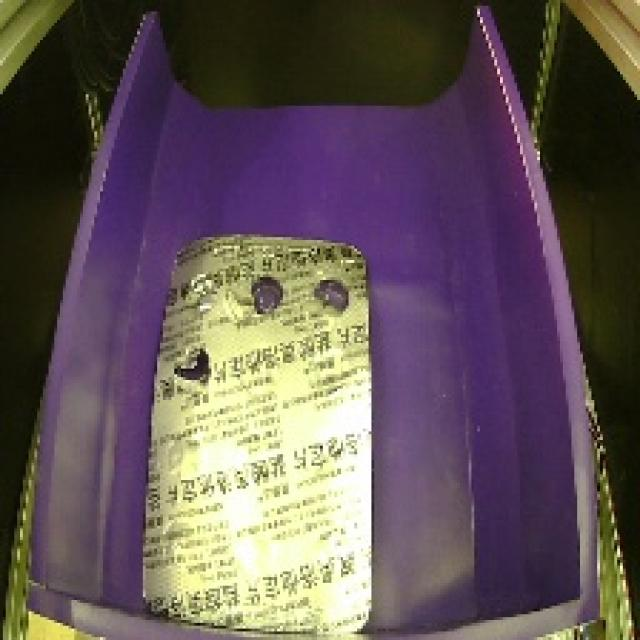med_plate: (123, 226, 384, 640)
